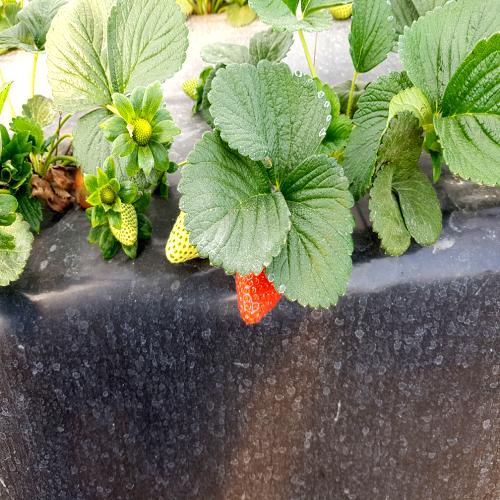ripe: (236, 206, 289, 331)
